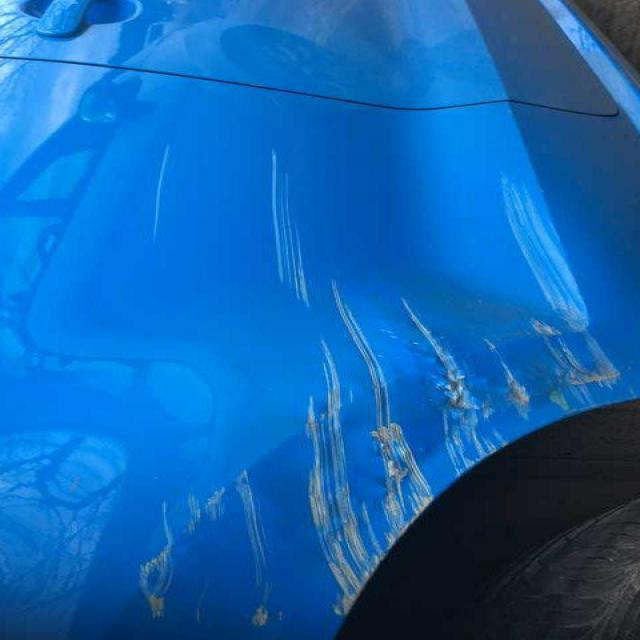scratch: (247, 137, 637, 606), (115, 489, 233, 640), (133, 135, 188, 254)
